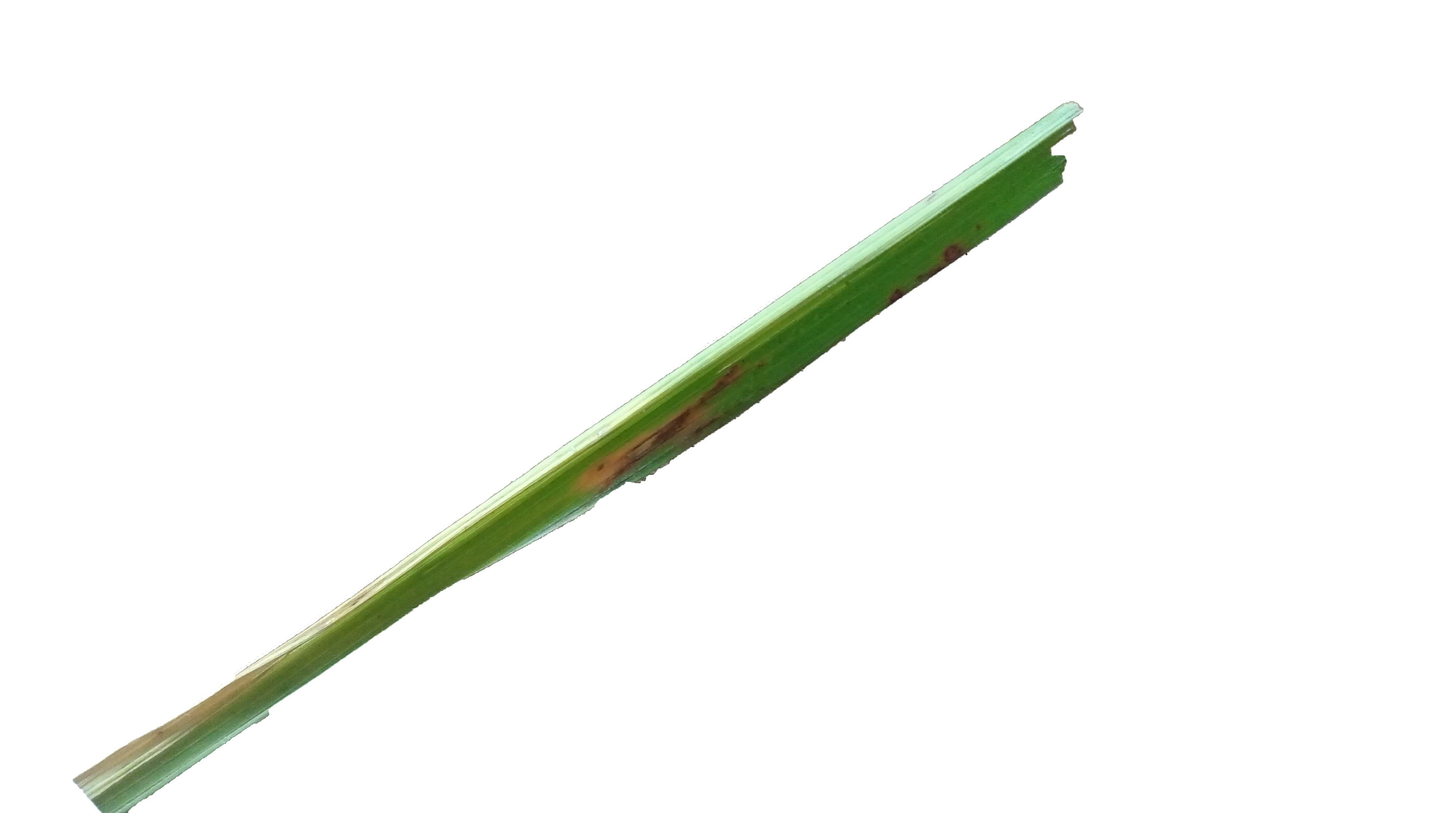Rice blast: (560, 345, 778, 510), (874, 234, 976, 309)
